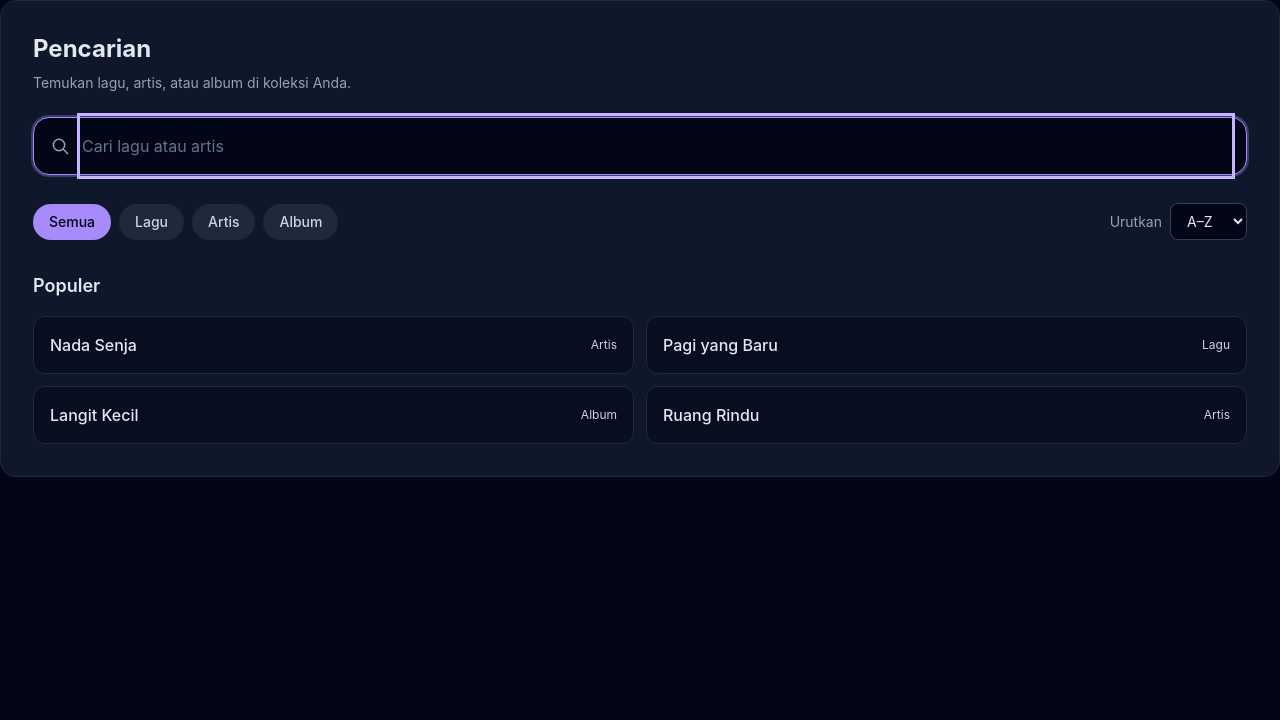
Search › selects popular searches and closes autocomplete after blur
Click the button "Pagi yang Baru Lagu" at (720, 345), box x1=646 y1=316 x2=1247 y2=374
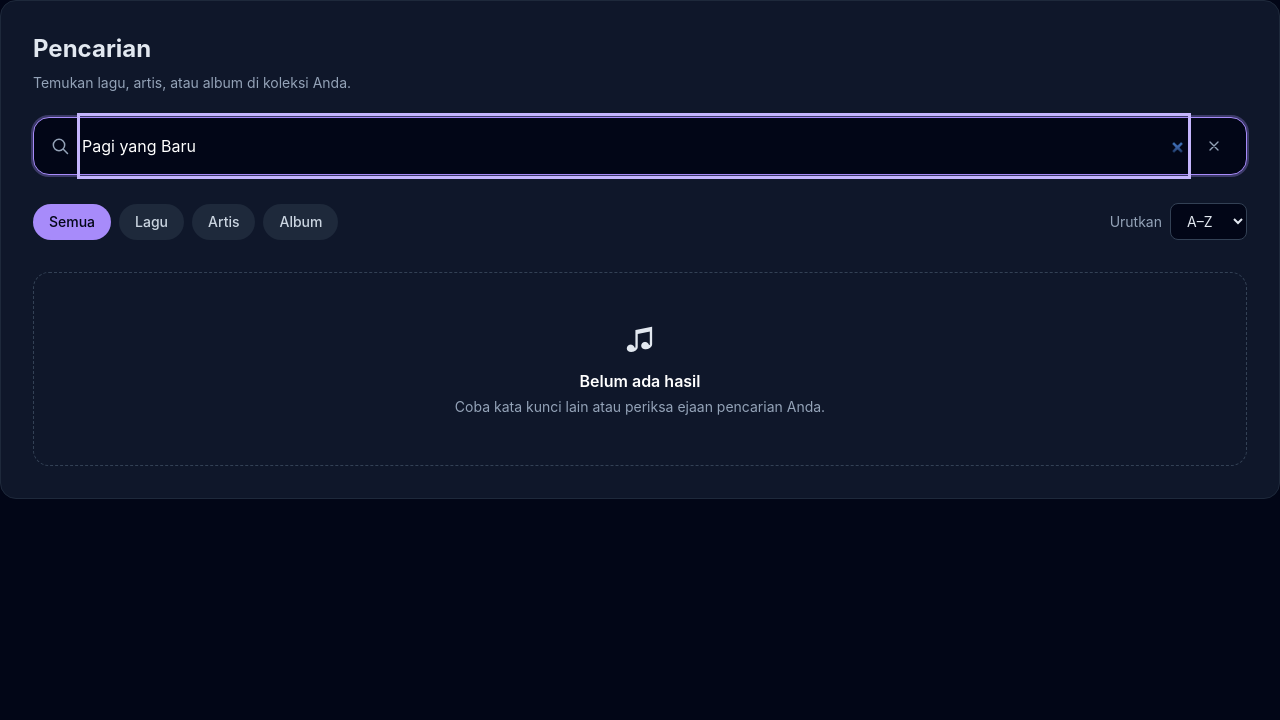
Replace the text in the dropdown named "Cari lagu atau artis" with "Blue" at (634, 146), box x1=82 y1=118 x2=1186 y2=174
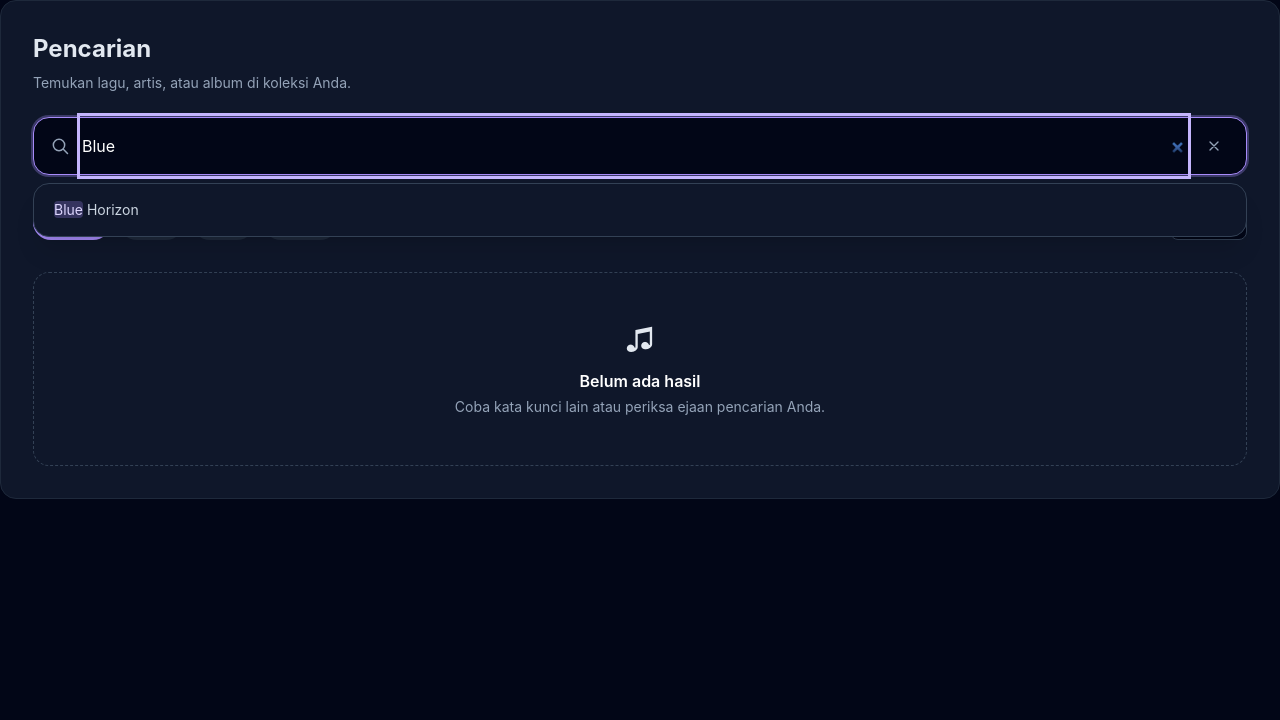
Now the list is shown, box x1=33 y1=183 x2=1247 y2=237
Focus the dropdown named "Cari lagu atau artis" at (634, 146), box x1=82 y1=118 x2=1186 y2=174
Now the list is shown, box x1=33 y1=183 x2=1247 y2=237
Leave the dropdown named "Cari lagu atau artis", box x1=82 y1=118 x2=1186 y2=174
Wait 100 ms
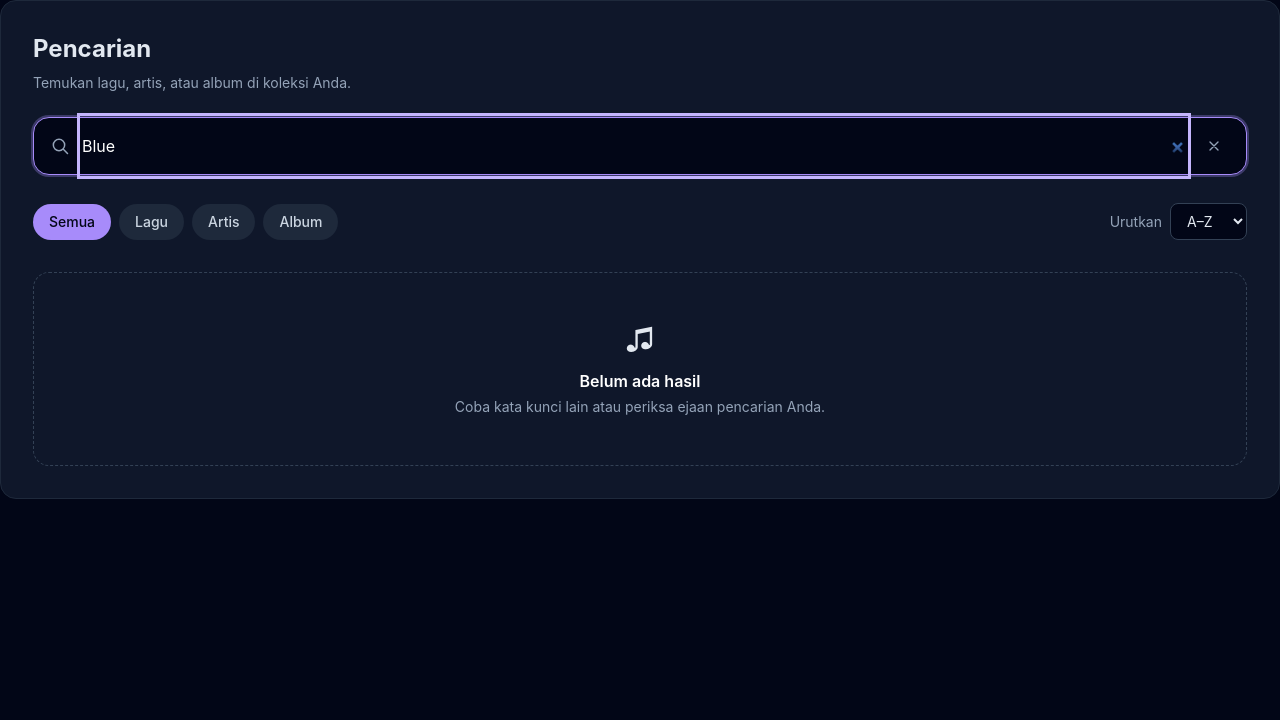
Now the list is gone
